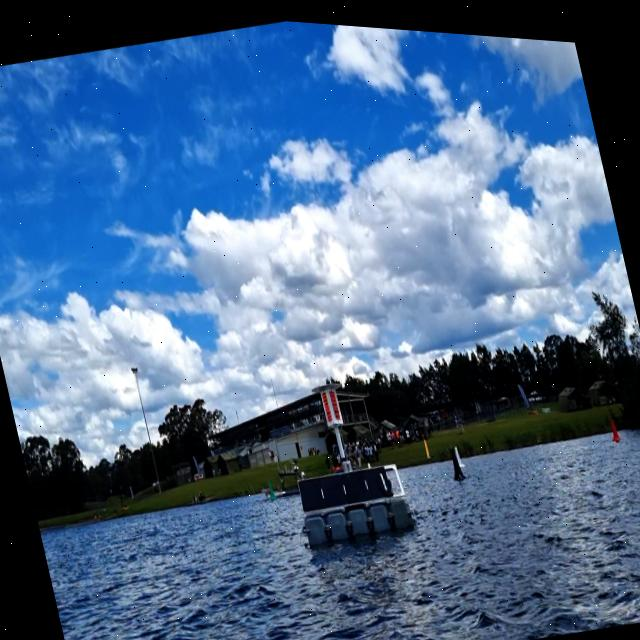led: (320, 383, 342, 419), (327, 383, 342, 417), (321, 385, 334, 418)
